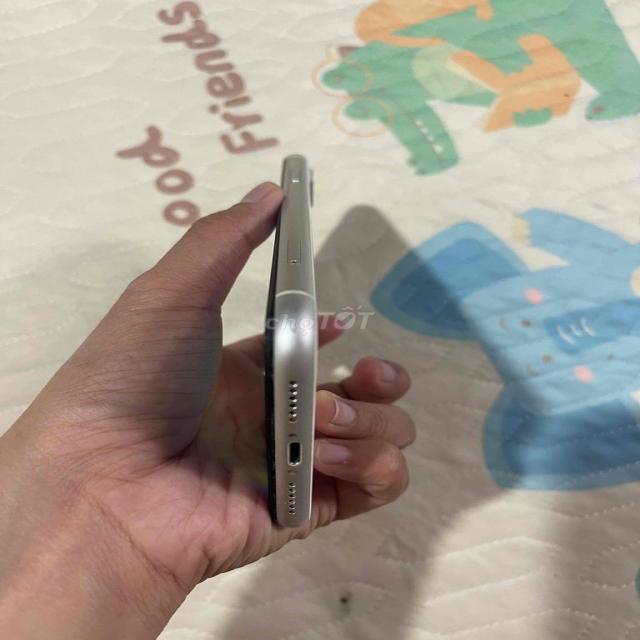gen_11: (250, 134, 340, 545)
